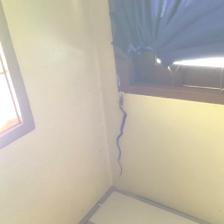Medium: (100, 95, 135, 182)
